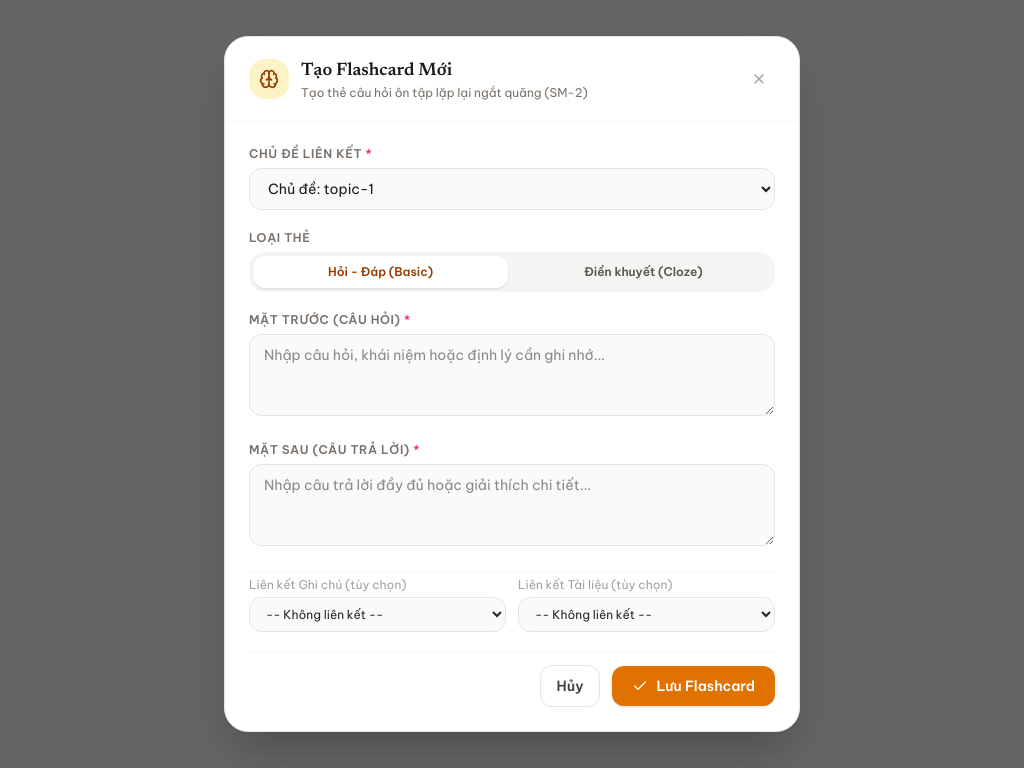
Scenario: PR 2 (Phase 25): Flashcard Creation Feedback & Outcome Contract › UI Feedback: FlashcardFormModal › Test 5: FlashcardFormModal displays 'Đã tạo thẻ ôn tập thành công.' when outcome is created
Type "Câu hỏi test" into the text box with test id "input-front" at x=512, y=375, box [249, 334, 775, 416]
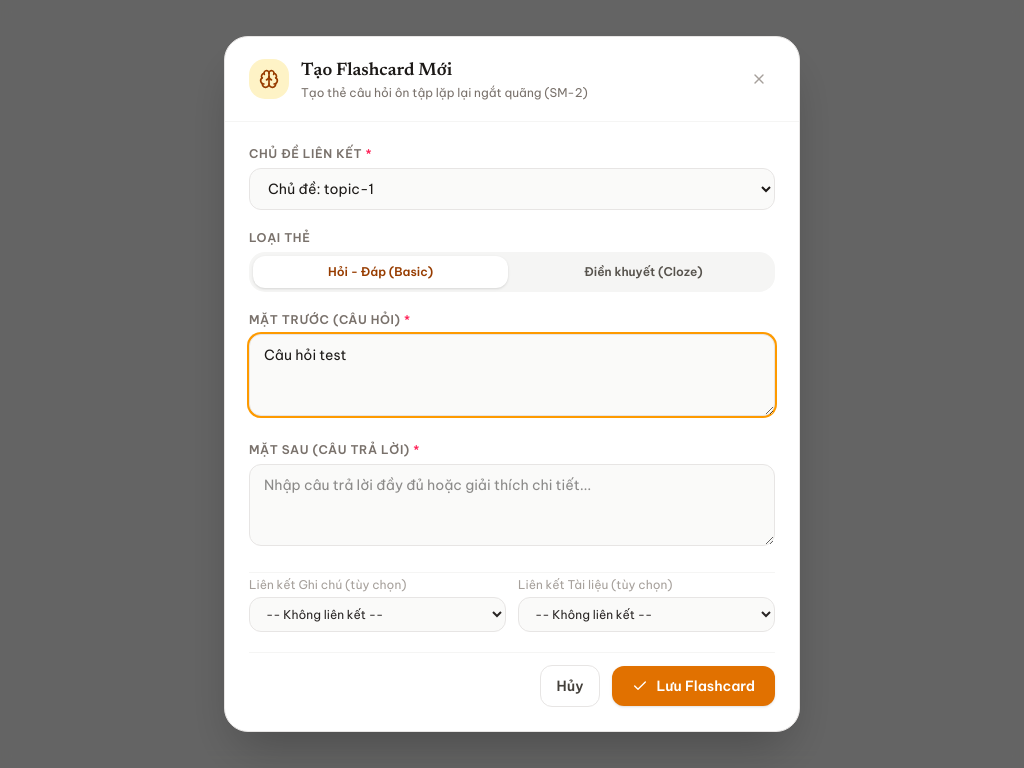
Type "Câu trả lời test" into the text box with test id "input-back" at x=512, y=505, box [249, 464, 775, 546]
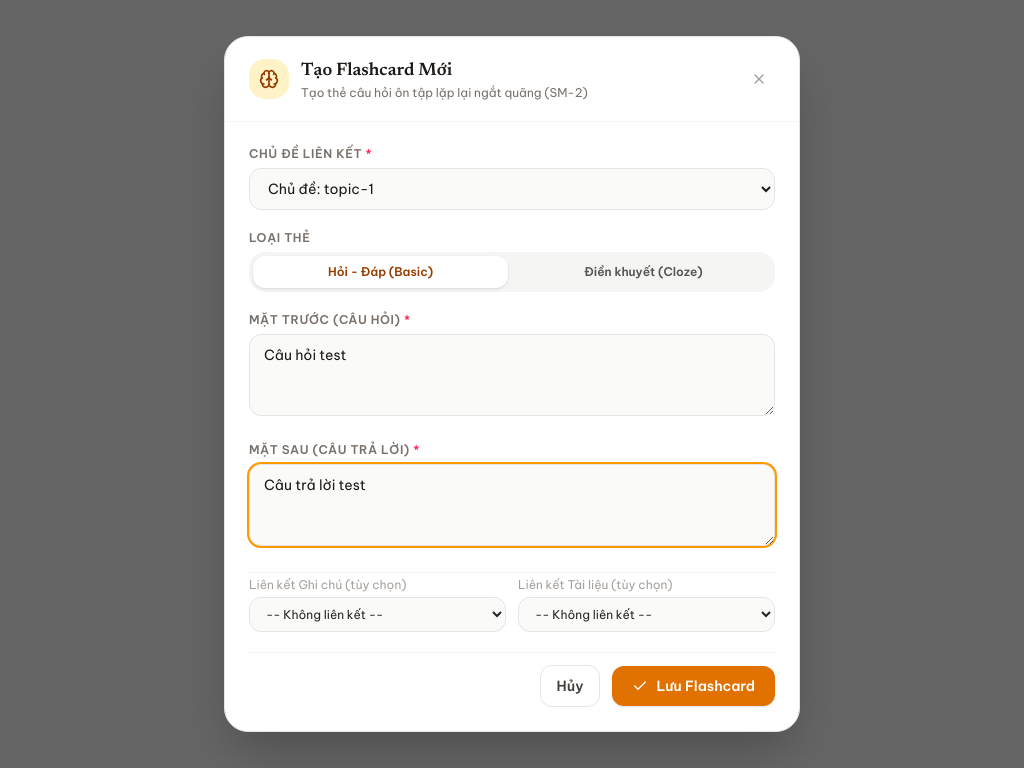
Click the button with test id "btn-submit-flashcard" at x=694, y=686, box [612, 666, 775, 706]
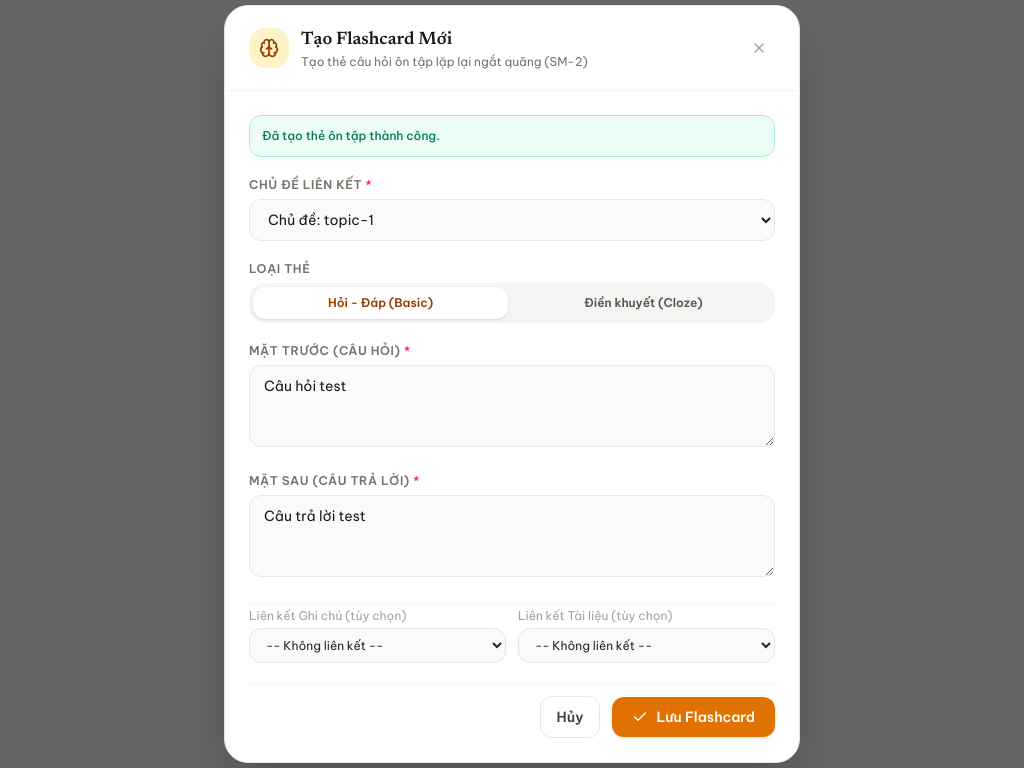
Result: the text "Đã tạo thẻ ôn tập thành công." is shown at [262, 128, 440, 144]
